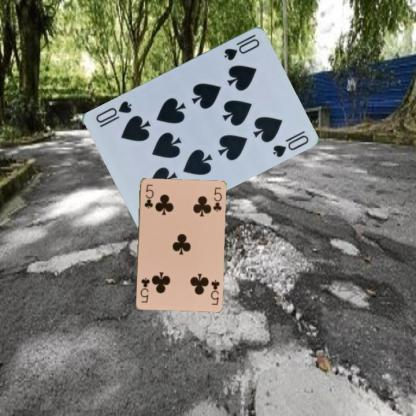10s: (221, 31, 261, 62)
5c: (141, 182, 155, 210), (208, 277, 221, 306)
